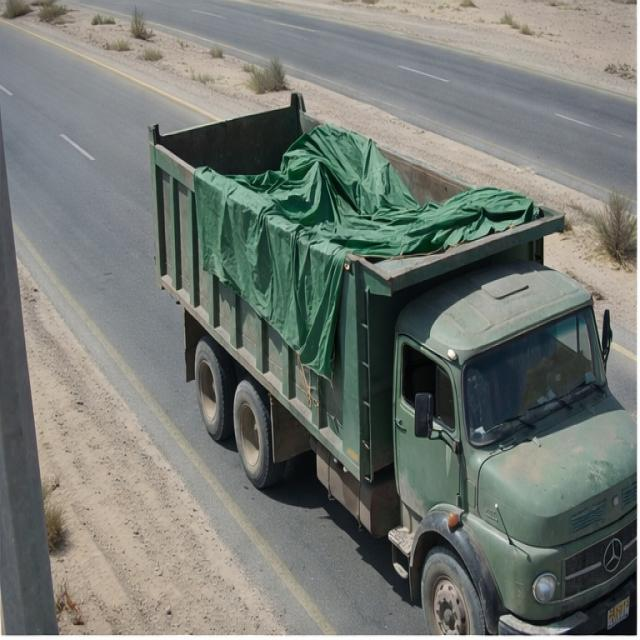Box: (150, 92, 567, 294)
Truck: (144, 89, 640, 640)
